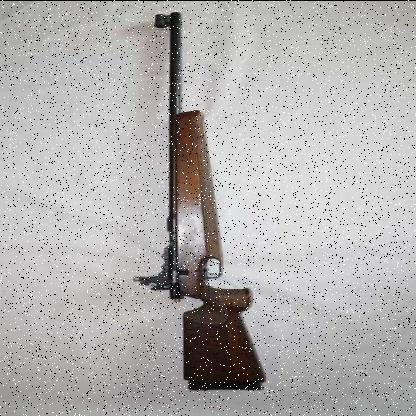rifle: (122, 0, 302, 398)
